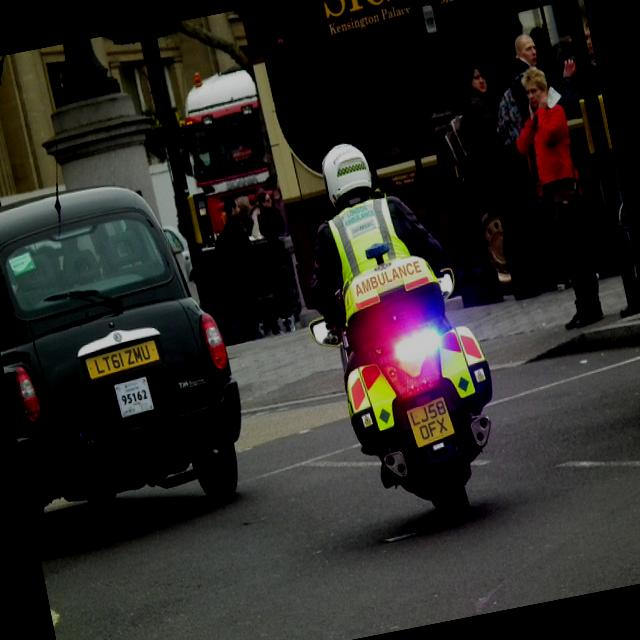Vehicle: (0, 112, 259, 537), (295, 222, 523, 544), (167, 62, 286, 257)
